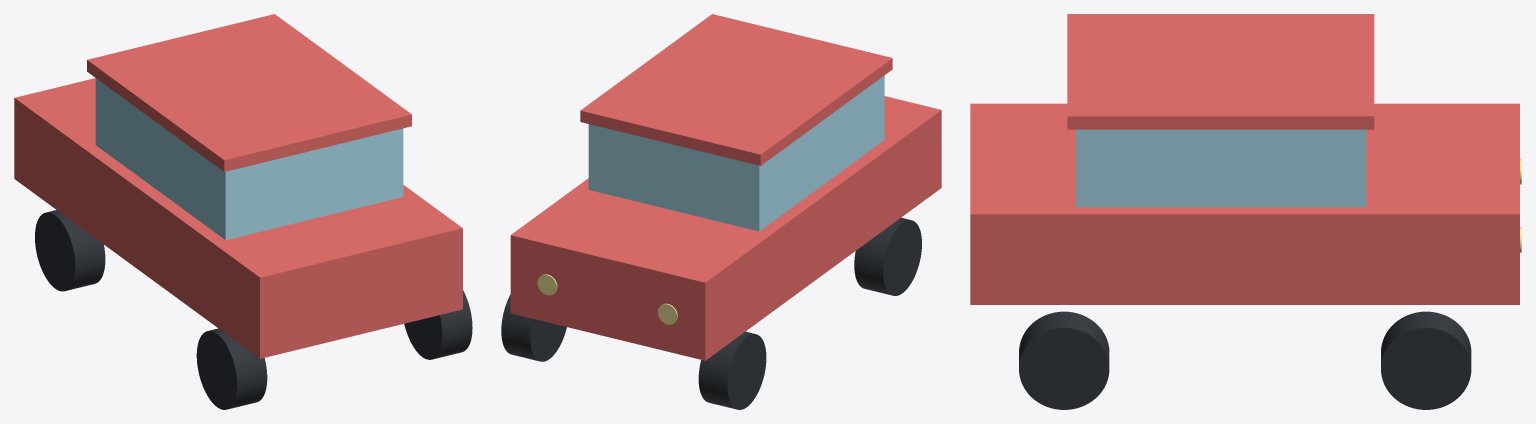
The model's file is car-red.glb.
The picture shows the model from 3 angles, left to right: view 1: azimuth 30°, elevation 25°; view 2: azimuth 150°, elevation 25°; view 3: azimuth 270°, elevation 25°; orthographic projection. The views are drawn at different scales.
Parts seen in each view (by area): view 1: body, roof, cabin, wheel-0.82-1.12, wheel-0.821.12, wheel0.82-1.12; view 2: body, roof, cabin, wheel-0.821.12, wheel-0.82-1.12, wheel0.821.12; view 3: body, roof, cabin, wheel0.821.12, wheel0.82-1.12.
Part boxes in pixels (x1,y1,x2,y2): body: [14, 78, 462, 358]; roof: [87, 14, 411, 171]; cabin: [95, 78, 403, 239]; wheel-0.82-1.12: [196, 328, 267, 409]; wheel-0.821.12: [35, 210, 105, 291]; wheel0.82-1.12: [404, 290, 472, 359]; body: [510, 96, 941, 360]; roof: [580, 14, 892, 165]; cabin: [588, 75, 884, 231]; wheel-0.821.12: [698, 331, 766, 409]; wheel-0.82-1.12: [854, 217, 921, 295]; wheel0.821.12: [501, 294, 566, 361]; body: [970, 103, 1519, 304]; roof: [1067, 14, 1374, 129]; cabin: [1075, 129, 1366, 207]; wheel0.821.12: [1381, 311, 1471, 409]; wheel0.82-1.12: [1019, 311, 1109, 409].
Bounding box in the file's own units: 1.88 × 1.86 × 3.41.
